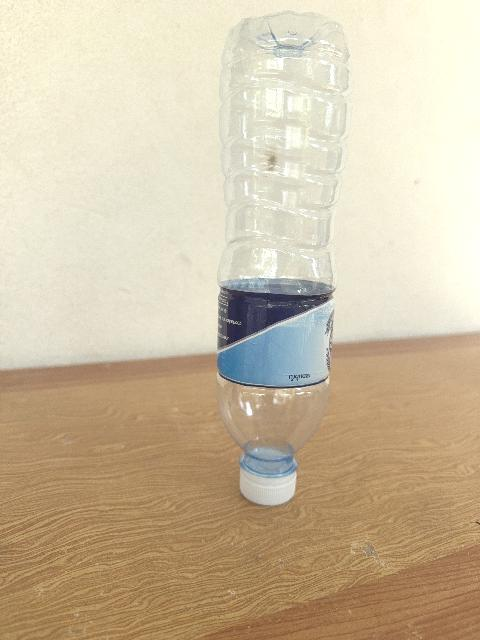bottle: (217, 12, 350, 504)
